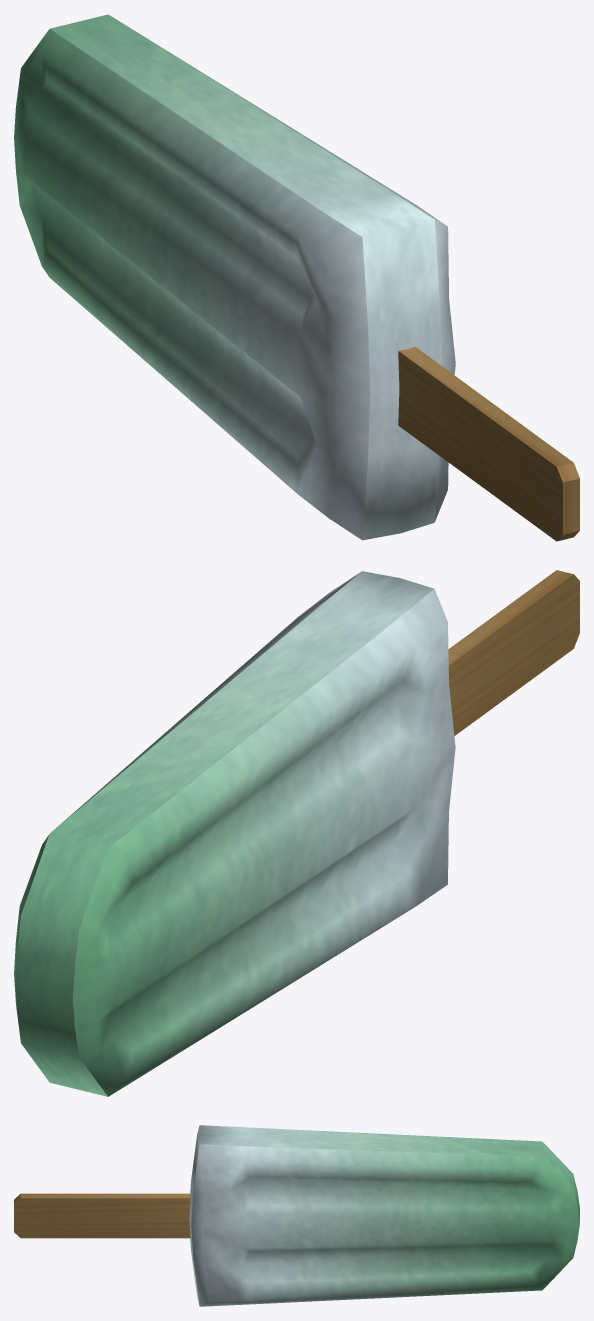
The model's file is popsicle02.fbx.
3 renders of one model, top to bottom at view 1: azimuth 30°, elevation 25°; view 2: azimuth 150°, elevation 25°; view 3: azimuth 270°, elevation 25°, orthographic. The views are drawn at different scales.
Visible parts, largest first — view 1: popsicle02; view 2: popsicle02; view 3: popsicle02.
Boxes of the visible parts, x1,y1,x2,y2 form: popsicle02: (14, 14, 579, 541); popsicle02: (14, 570, 579, 1096); popsicle02: (14, 1125, 579, 1306).
Bounding box in the file's own units: 0.1799 × 0.4383 × 1.38.
